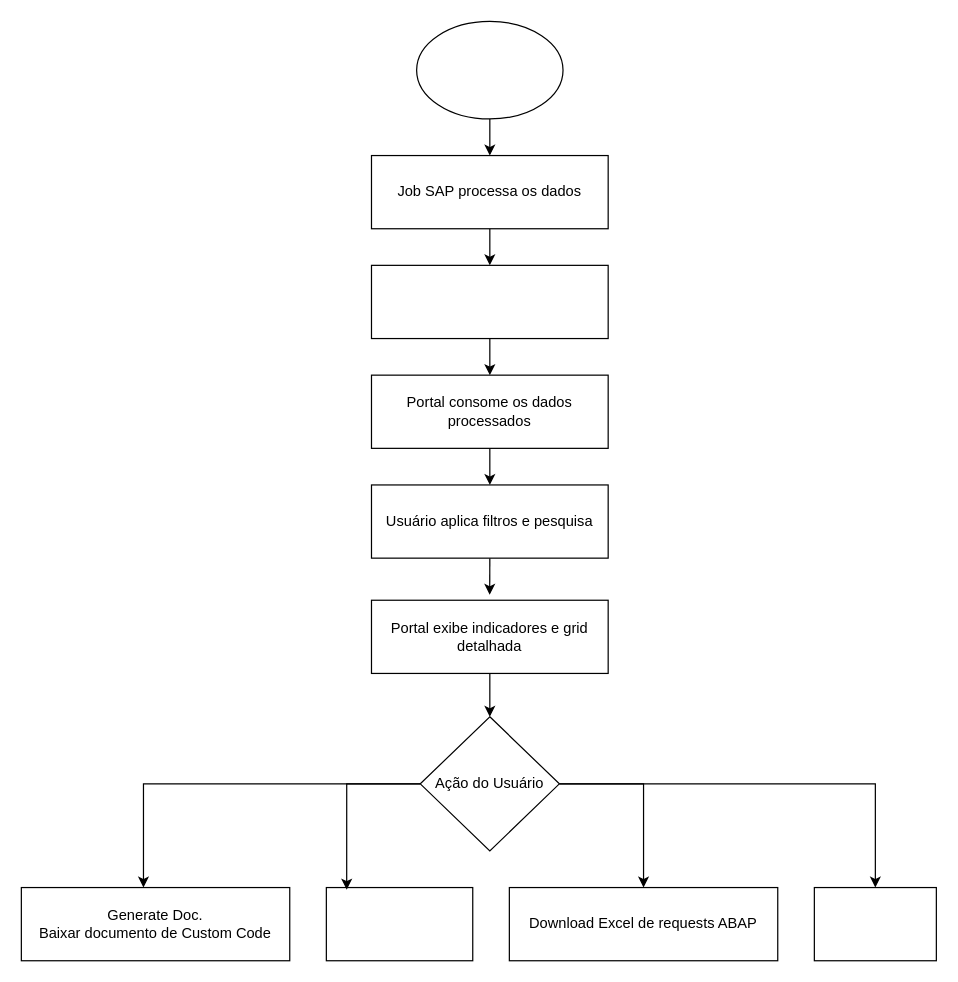
This 958x982 diagram has some shape labels left out. The shapes that lost their labels are listed below. From the top down, each one's centre as x and y in pixels, then its label:
the point at 489,69: Início
the point at 489,301: SAP consolida os objetos e requests ABAP
the point at 399,923: Upload Excel
the point at 874,923: Report History
